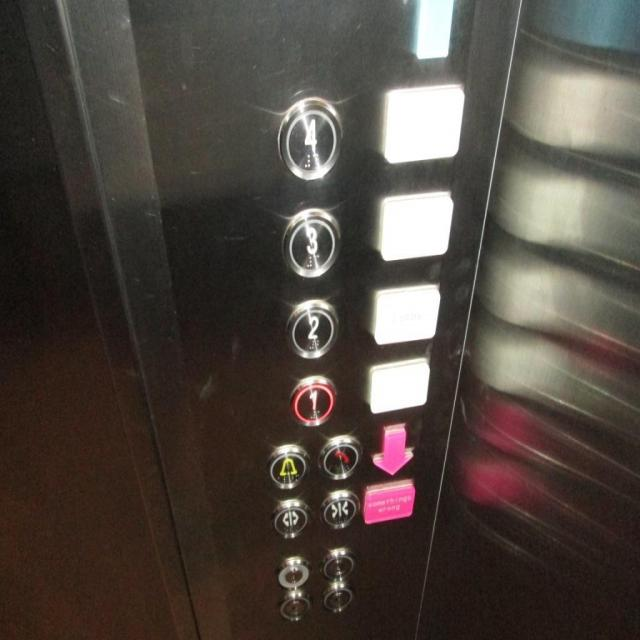1: (287, 375, 337, 426)
2: (284, 298, 338, 358)
3: (281, 208, 340, 277)
4: (277, 94, 344, 181)
alarm: (263, 442, 310, 488)
call: (317, 433, 362, 480)
close: (318, 487, 360, 528)
keyhole: (320, 544, 356, 579), (277, 589, 311, 621), (276, 556, 310, 587), (320, 583, 354, 614)
open: (268, 496, 313, 540)
